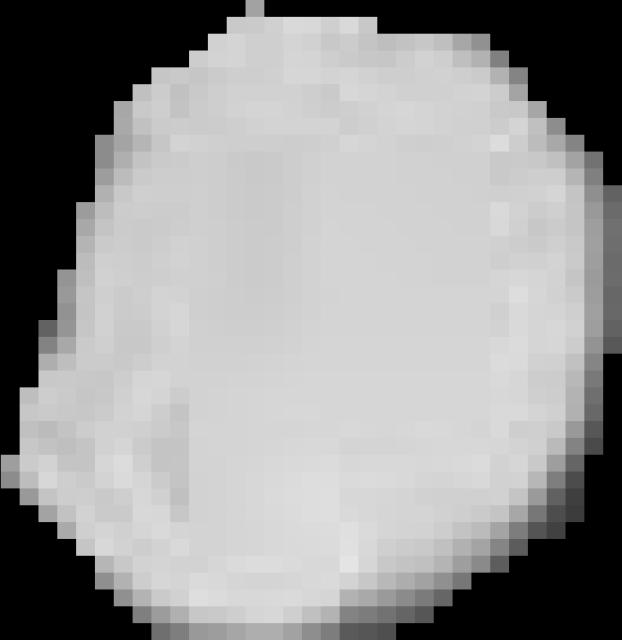tumor_moderate_chance: (1, 0, 622, 640)
